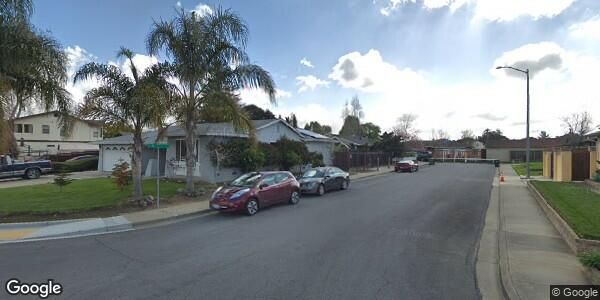Steel_Pole: (493, 64, 538, 185)
